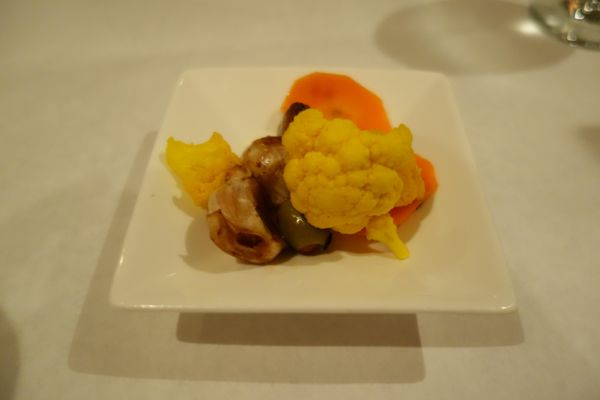curry: (28, 0, 599, 392)
pizza: (281, 71, 392, 133)
